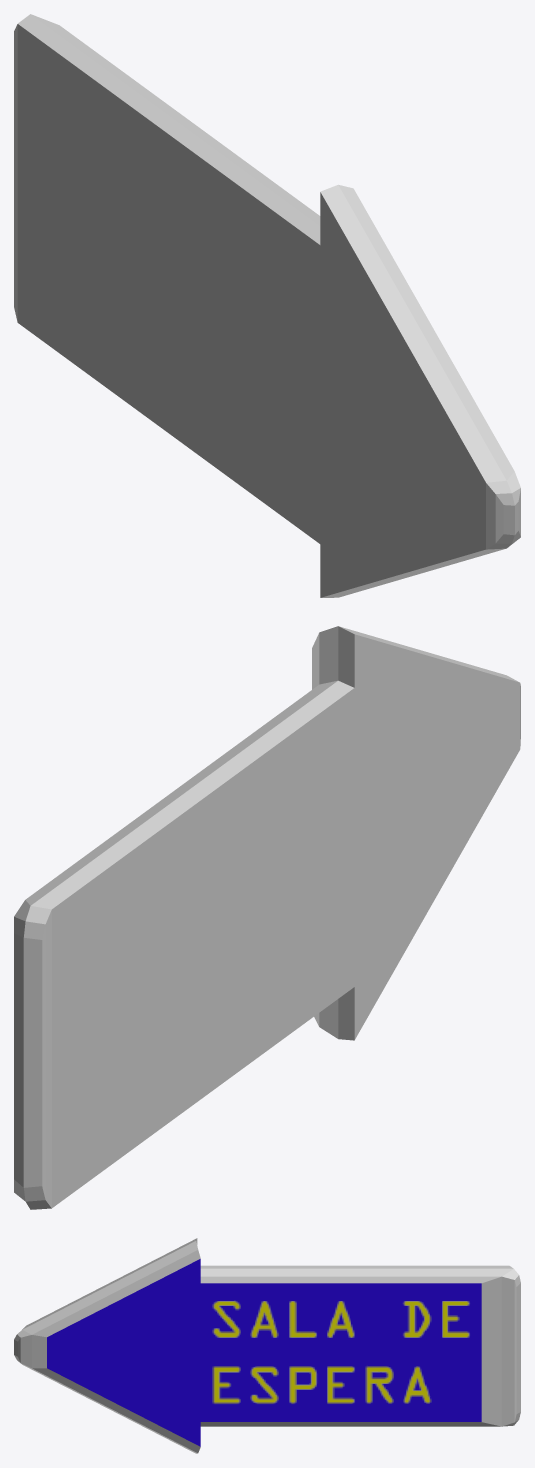
The model's file is señal_espera_esp.fbx.
3 views of the same model, one above another, from view 1: azimuth 30°, elevation 25°; view 2: azimuth 150°, elevation 25°; view 3: azimuth 270°, elevation 25° (orthographic). The views are drawn at different scales.
Parts seen in each view (by area): view 1: Pointer:Mesh; view 2: Pointer:Mesh; view 3: Pointer:Mesh.
Boxes of the visible parts, x1,y1,x2,y2 form: Pointer:Mesh: (14,14,520,597); Pointer:Mesh: (14,626,520,1209); Pointer:Mesh: (14,1238,520,1453).
Bounding box in the file's own units: 0.1567 × 1.59 × 3.42.
3 materials, 1 textured.
